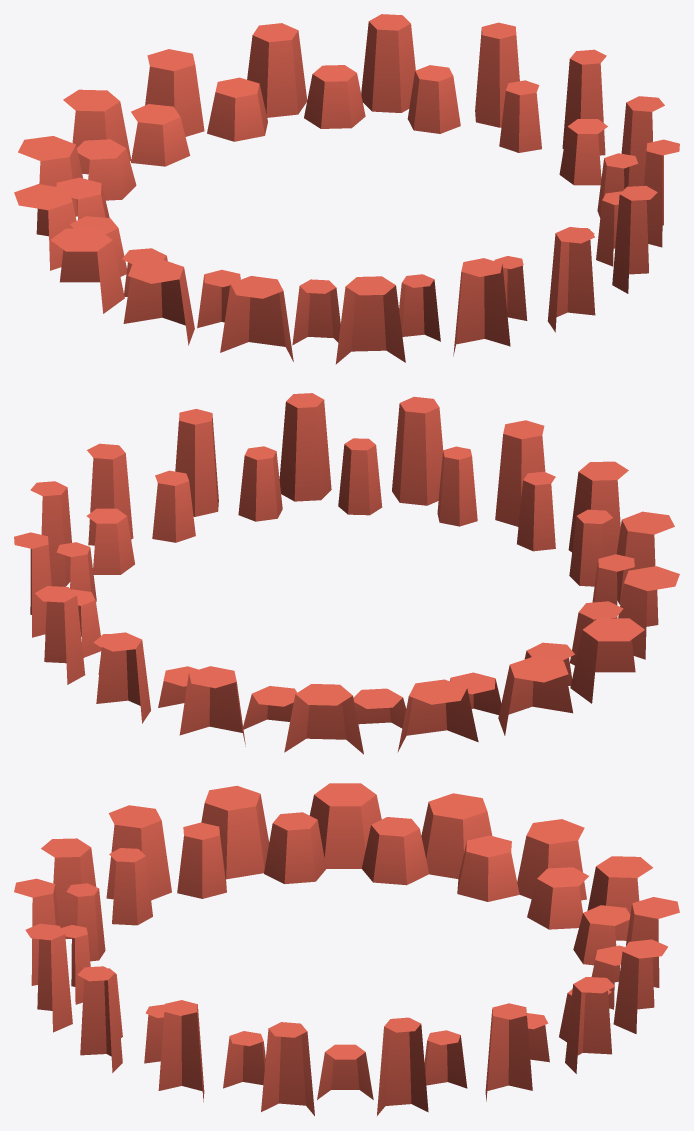
Rendered from backdrop.glb.
3 views of the same model, one above another, from view 1: azimuth 30°, elevation 25°; view 2: azimuth 150°, elevation 25°; view 3: azimuth 270°, elevation 25° (orthographic).
Parts seen in each view (by area): view 1: root_mesh; view 2: root_mesh; view 3: root_mesh.
Boxes of the visible parts, x1,y1,x2,y2 form: root_mesh: (14, 14, 679, 364); root_mesh: (14, 393, 679, 754); root_mesh: (14, 783, 679, 1115).
Size of the model in its own units: 273 by 41 by 273.
